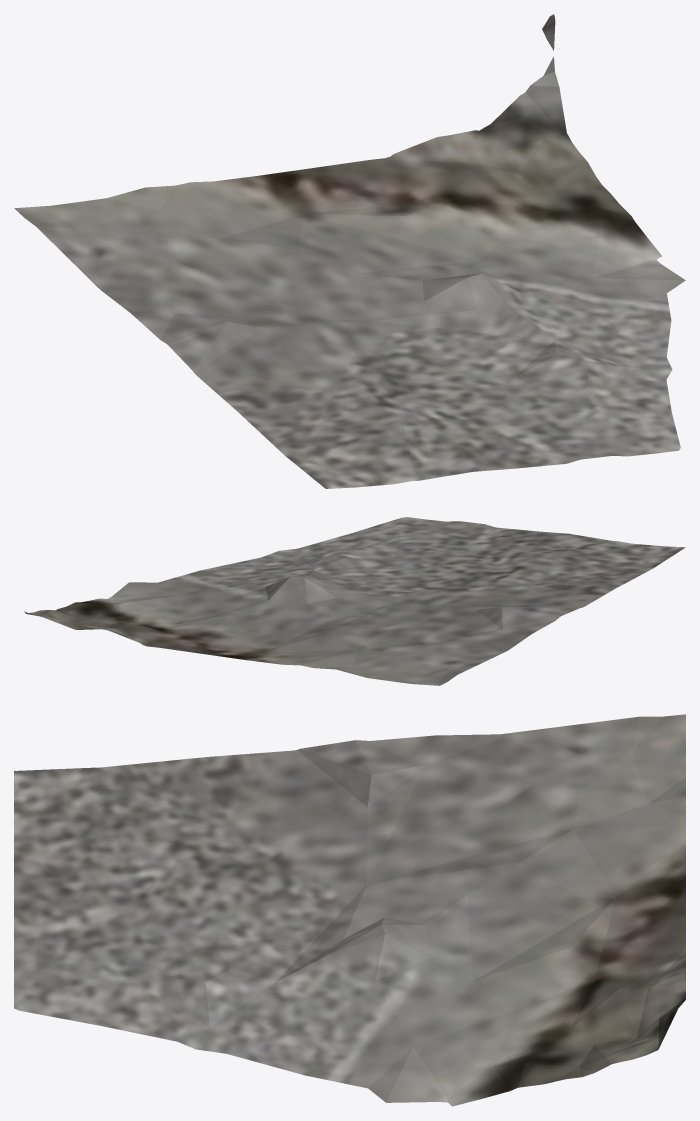
The picture shows the model from 3 angles, top to bottom: view 1: azimuth 30°, elevation 25°; view 2: azimuth 150°, elevation 25°; view 3: azimuth 270°, elevation 25°; orthographic projection. The views are drawn at different scales.
Size of the model in its own units: 0.8374 by 0.2414 by 0.8374.
Materials: 2 (2 with a texture image).
